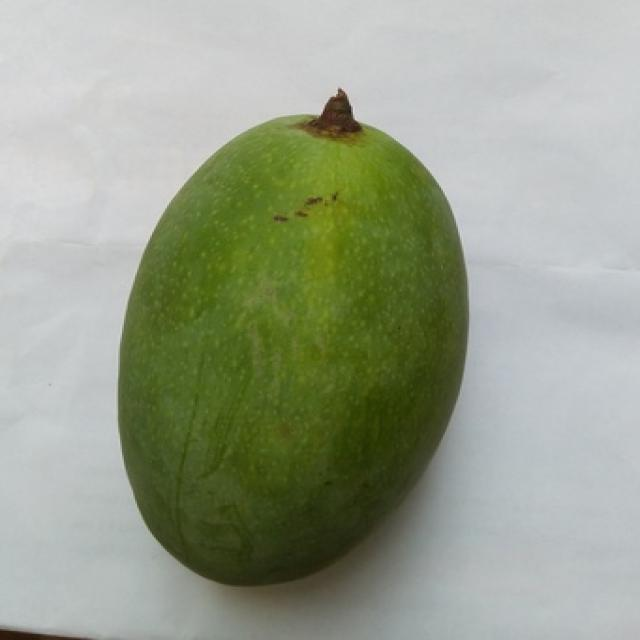Mango: (120, 97, 467, 584)
